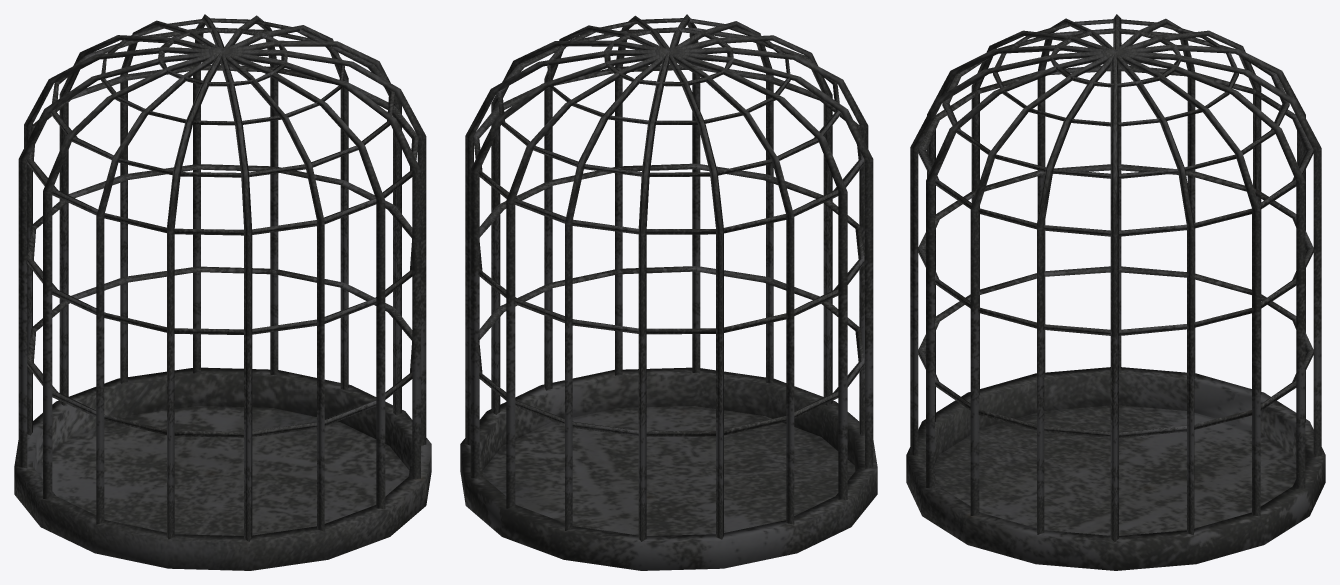
The model's file is Prop_BirdCage_model.fbx.
3 renders of one model, left to right at view 1: azimuth 30°, elevation 25°; view 2: azimuth 150°, elevation 25°; view 3: azimuth 270°, elevation 25°, orthographic.
Parts seen in each view (by area): view 1: polySurface1200; view 2: polySurface1200; view 3: polySurface1200.
Boxes of the visible parts, left/top/right/bottom form: polySurface1200: left=14, top=14, right=431, bottom=570; polySurface1200: left=460, top=14, right=877, bottom=570; polySurface1200: left=906, top=14, right=1325, bottom=570.
Size of the model in its own units: 79.53 by 91.59 by 79.53.
